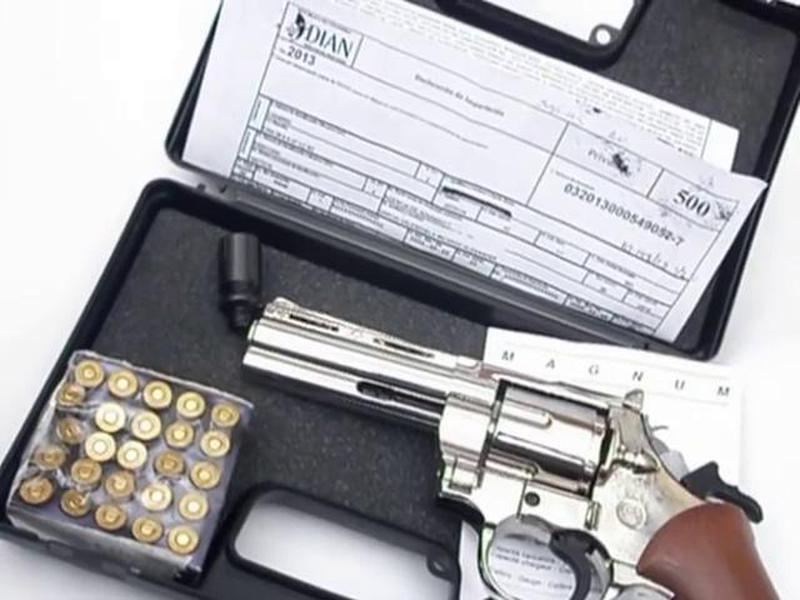Revolver: (239, 284, 778, 600)
